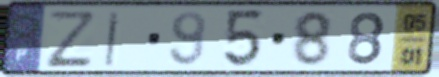5: (223, 7, 268, 71)
8: (290, 9, 336, 68), (346, 10, 387, 68)
9: (165, 10, 209, 68)
I: (102, 9, 123, 68)
Z: (44, 8, 95, 70)
